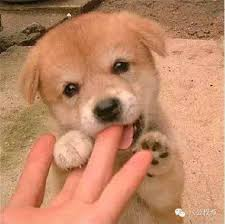dog: (20, 16, 176, 147)
